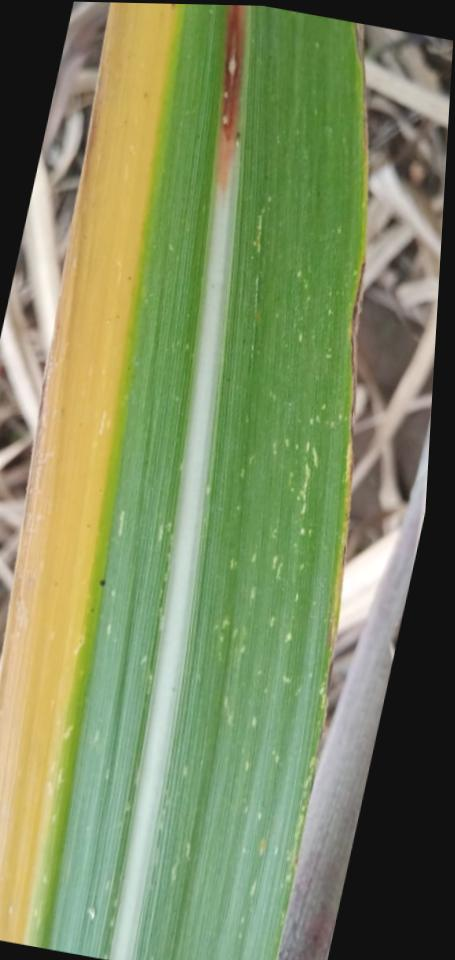RedRot: (216, 5, 244, 202)
Rust: (97, 578, 106, 588), (169, 4, 176, 8)
Yellow: (0, 2, 174, 944)
